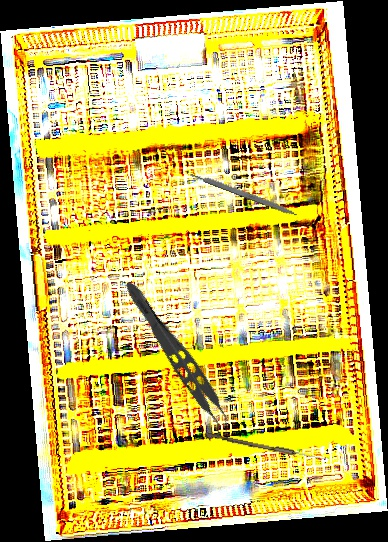Scalpel Handle: (188, 169, 299, 218)
Surgical Spoon: (206, 432, 326, 462)
Tissue Forceps: (110, 277, 242, 441)
